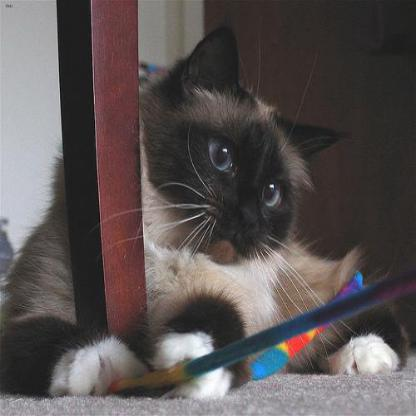cat: (0, 23, 406, 399)
